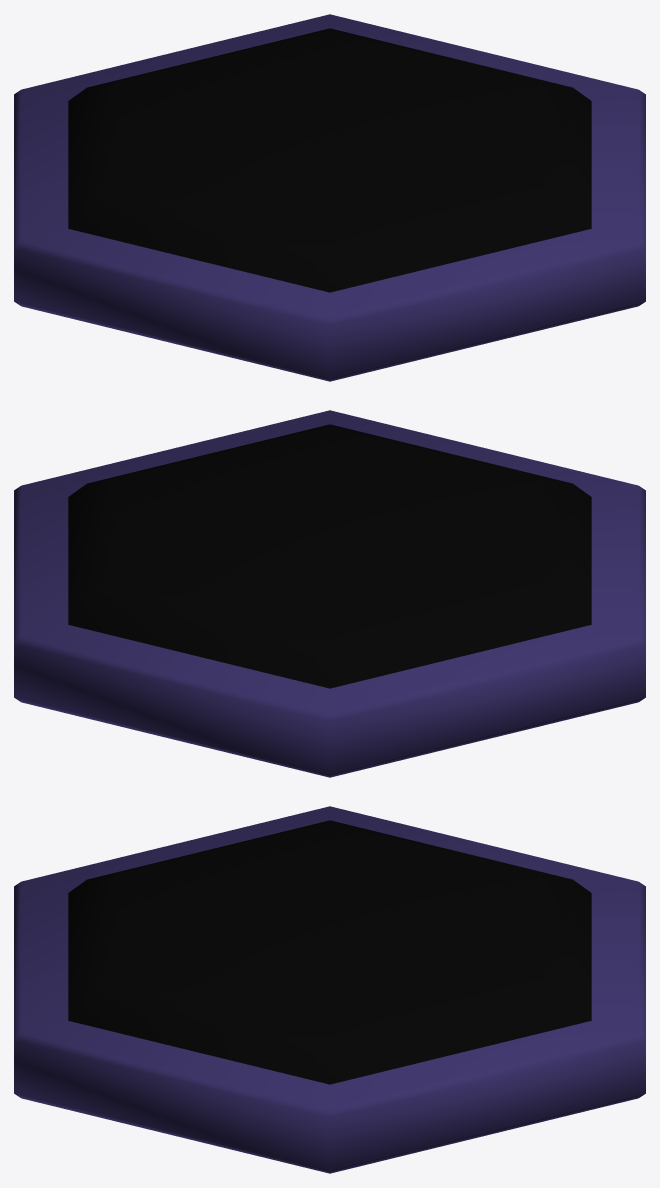
The model's file is ModifierEmblem_02.FBX.
The picture shows the model from 3 angles, top to bottom: view 1: azimuth 30°, elevation 25°; view 2: azimuth 150°, elevation 25°; view 3: azimuth 270°, elevation 25°; orthographic projection.
Visible parts, largest first — view 1: ModifierEmblem_02; view 2: ModifierEmblem_02; view 3: ModifierEmblem_02.
Part boxes in pixels (left/top/right/bottom): ModifierEmblem_02: left=14, top=14, right=645, bottom=381; ModifierEmblem_02: left=14, top=410, right=645, bottom=777; ModifierEmblem_02: left=14, top=806, right=645, bottom=1173.
Size of the model in its own units: 1 by 0.19 by 0.866.
